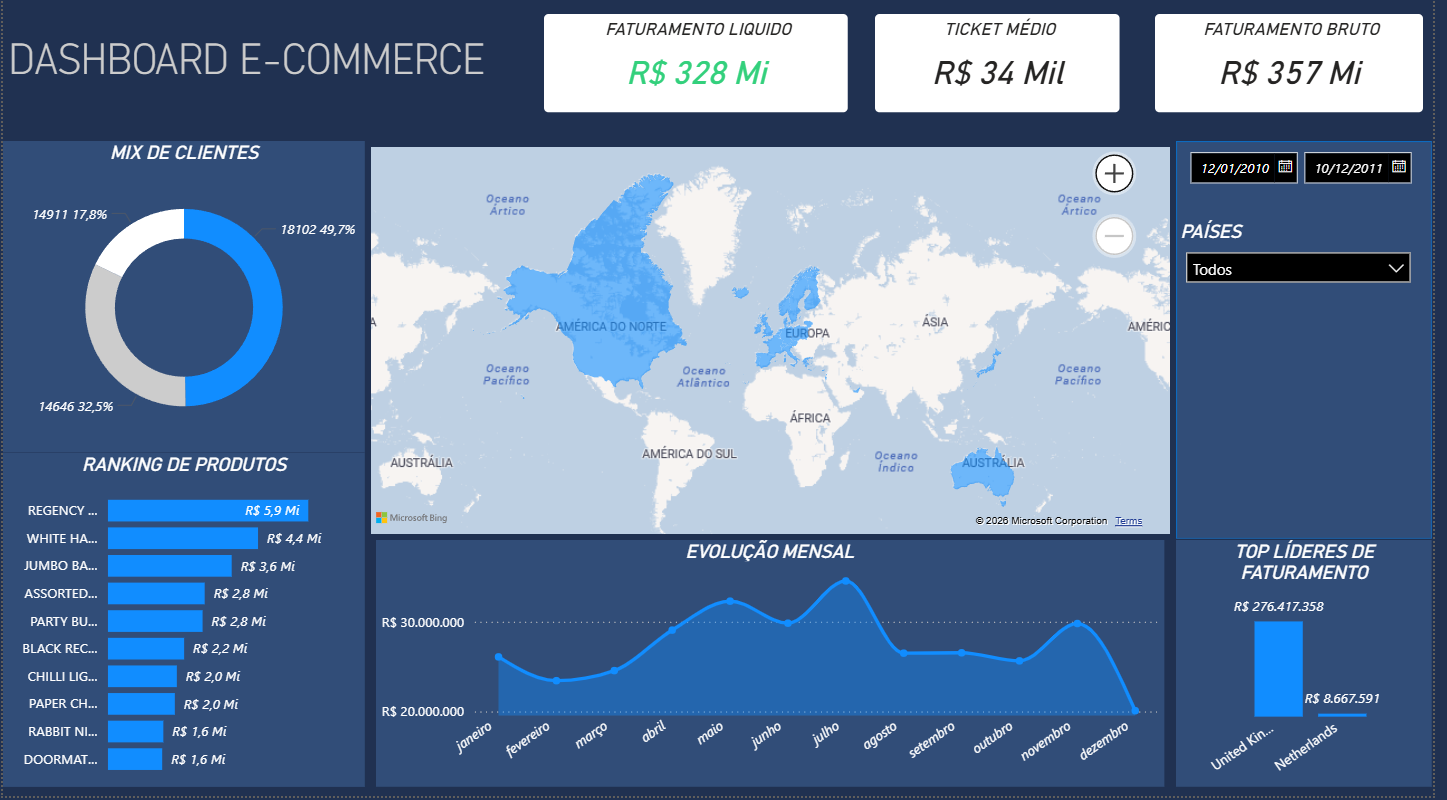

What the dashboard file says about the page in this screenshot:
{"tool":"powerbi","page":{"name":"VISÃO GERAL","canvas":[1280,720],"ordinal":0},"visuals":[{"type":"card","title":"FATURAMENTO BRUTO","fields":{"Values":["E_Commerce.Faturamento_Bruto"]},"box":[1031.6,19.7,240,87.8],"z":1000},{"type":"card","title":"FATURAMENTO LIQUIDO","fields":{"Values":["E_Commerce.Faturamento_Liquido"]},"box":[484.5,19.7,272.2,87.8],"z":3000},{"type":"card","title":"TICKET MÉDIO","fields":{"Values":["E_Commerce.Ticket Medio"]},"box":[780.9,19.7,219.4,87.8],"z":4000},{"type":"donutChart","title":"MIX DE CLIENTES","fields":{"Category":["E_Commerce.Id_Cliente"],"Y":["E_Commerce.Faturamento_Liquido"]},"box":[0,133.4,324.2,279.4],"z":5000},{"type":"barChart","title":"RANKING DE PRODUTOS","fields":{"Category":["E_Commerce.Descrição"],"Y":["E_Commerce.Faturamento_Liquido"]},"box":[0,412.8,324.2,299.1],"z":6000},{"type":"areaChart","title":"EVOLUÇÃO MENSAL","fields":{"Y":["E_Commerce.Faturamento_Liquido"],"Category":["E_Commerce.Data.Variation.Hierarquia de datas.Mês"]},"box":[334,490.7,705.7,221.2],"z":7000},{"type":"filledMap","title":"Países","fields":{"Category":["E_Commerce.Países"],"Y":["E_Commerce.Faturamento_Bruto"]},"box":[324.2,133.4,726.3,357.3],"z":8000},{"type":"shape","box":[1050.4,133.4,229.3,356.4],"z":8001},{"type":"slicer","fields":{"Values":["E_Commerce.Data"]},"box":[1050.4,133.4,221.2,55.5],"z":8002},{"type":"slicer","title":"PAÍSES","fields":{"Values":["E_Commerce.Países"]},"box":[1049.5,204.3,220.8,123.5],"z":8003},{"type":"columnChart","title":"TOP LÍDERES DE FATURAMENTO","fields":{"Category":["E_Commerce.Países"],"Y":["E_Commerce.Faturamento_Liquido"]},"box":[1050.4,490.7,229.3,221.2],"z":8004},{"type":"textbox","box":[0,32.2,451.3,61.8],"z":8005}]}

Visuals, with their boxes in screenshot pixels (x1, y1, x2, y2), scaled from the page's 1280x720 canvas onto the 1447x800 screenshot:
"FATURAMENTO BRUTO" card: pyautogui.locateOnScreen(1166, 22, 1438, 119)
"FATURAMENTO LIQUIDO" card: pyautogui.locateOnScreen(548, 22, 855, 119)
"TICKET MÉDIO" card: pyautogui.locateOnScreen(883, 22, 1131, 119)
"MIX DE CLIENTES" donutChart: pyautogui.locateOnScreen(0, 148, 366, 459)
"RANKING DE PRODUTOS" barChart: pyautogui.locateOnScreen(0, 459, 366, 791)
"EVOLUÇÃO MENSAL" areaChart: pyautogui.locateOnScreen(378, 545, 1175, 791)
"Países" filledMap: pyautogui.locateOnScreen(366, 148, 1188, 545)
shape: pyautogui.locateOnScreen(1187, 148, 1446, 544)
slicer - E_Commerce.Data: pyautogui.locateOnScreen(1187, 148, 1438, 210)
"PAÍSES" slicer: pyautogui.locateOnScreen(1186, 227, 1436, 364)
"TOP LÍDERES DE FATURAMENTO" columnChart: pyautogui.locateOnScreen(1187, 545, 1446, 791)
textbox: pyautogui.locateOnScreen(0, 36, 510, 104)
